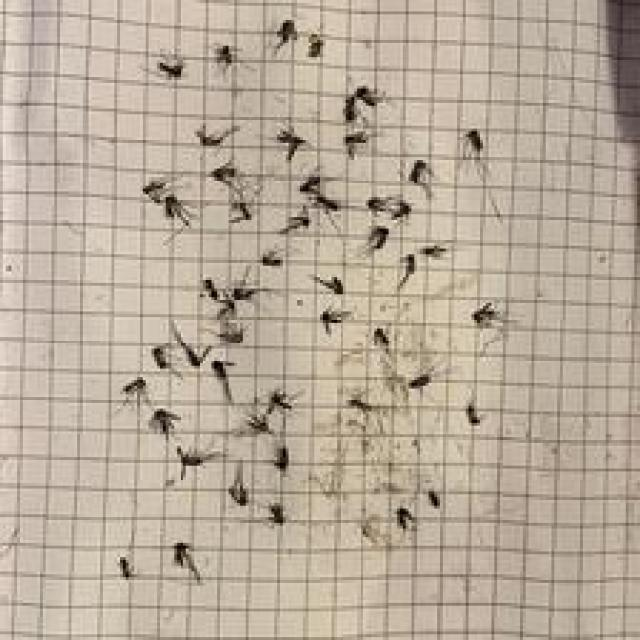Aedes albopictus: (113, 0, 518, 577)
